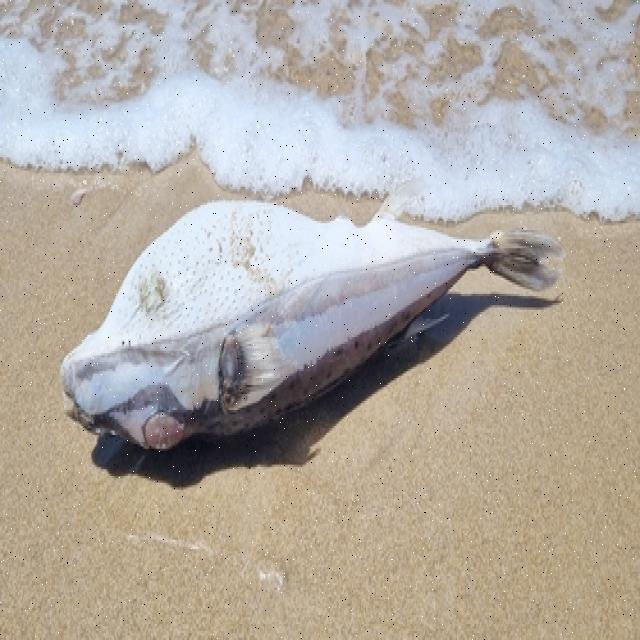Balik: (62, 183, 563, 448)
